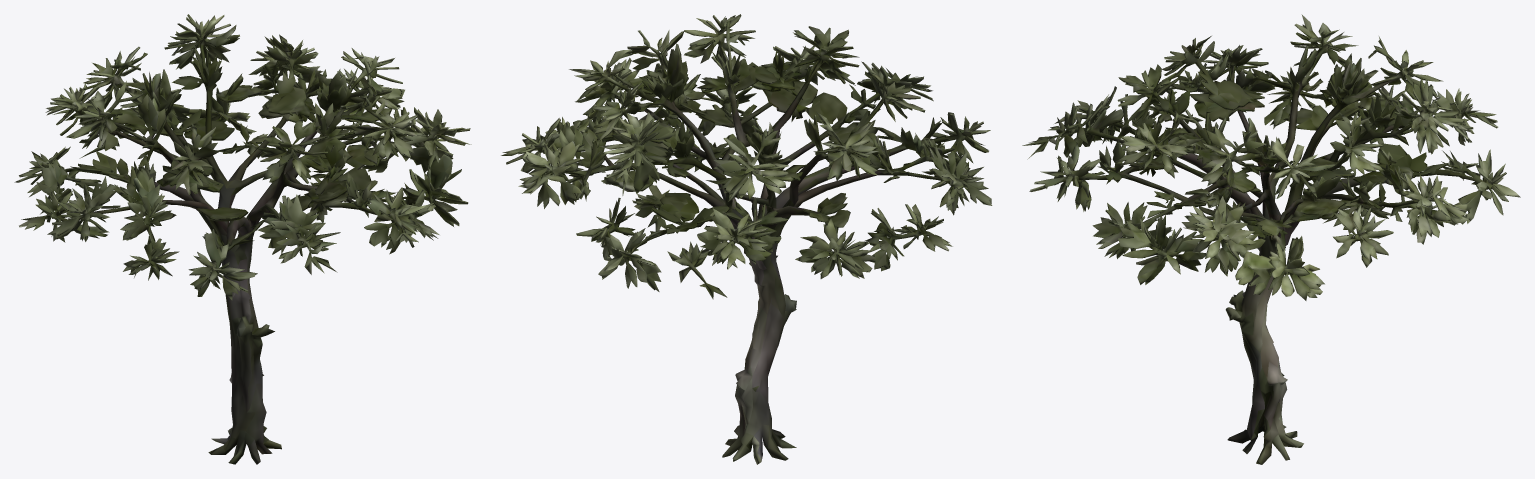
Rendered from tree_acacia.glb.
3 views of the same model, side by side, from view 1: azimuth 30°, elevation 25°; view 2: azimuth 150°, elevation 25°; view 3: azimuth 270°, elevation 25° (orthographic). The views are drawn at different scales.
Visible parts, largest first — view 1: tripo_node_e602e208-c6bf-43f1-b5d9-1f0699db1129; view 2: tripo_node_e602e208-c6bf-43f1-b5d9-1f0699db1129; view 3: tripo_node_e602e208-c6bf-43f1-b5d9-1f0699db1129.
Boxes of the visible parts, <box> form: tripo_node_e602e208-c6bf-43f1-b5d9-1f0699db1129: <box>14,14,471,464</box>; tripo_node_e602e208-c6bf-43f1-b5d9-1f0699db1129: <box>501,14,992,464</box>; tripo_node_e602e208-c6bf-43f1-b5d9-1f0699db1129: <box>1022,14,1520,464</box>.
Size of the model in its own units: 0.9989 by 0.8407 by 1.
Materials: 1 (1 with a texture image).
